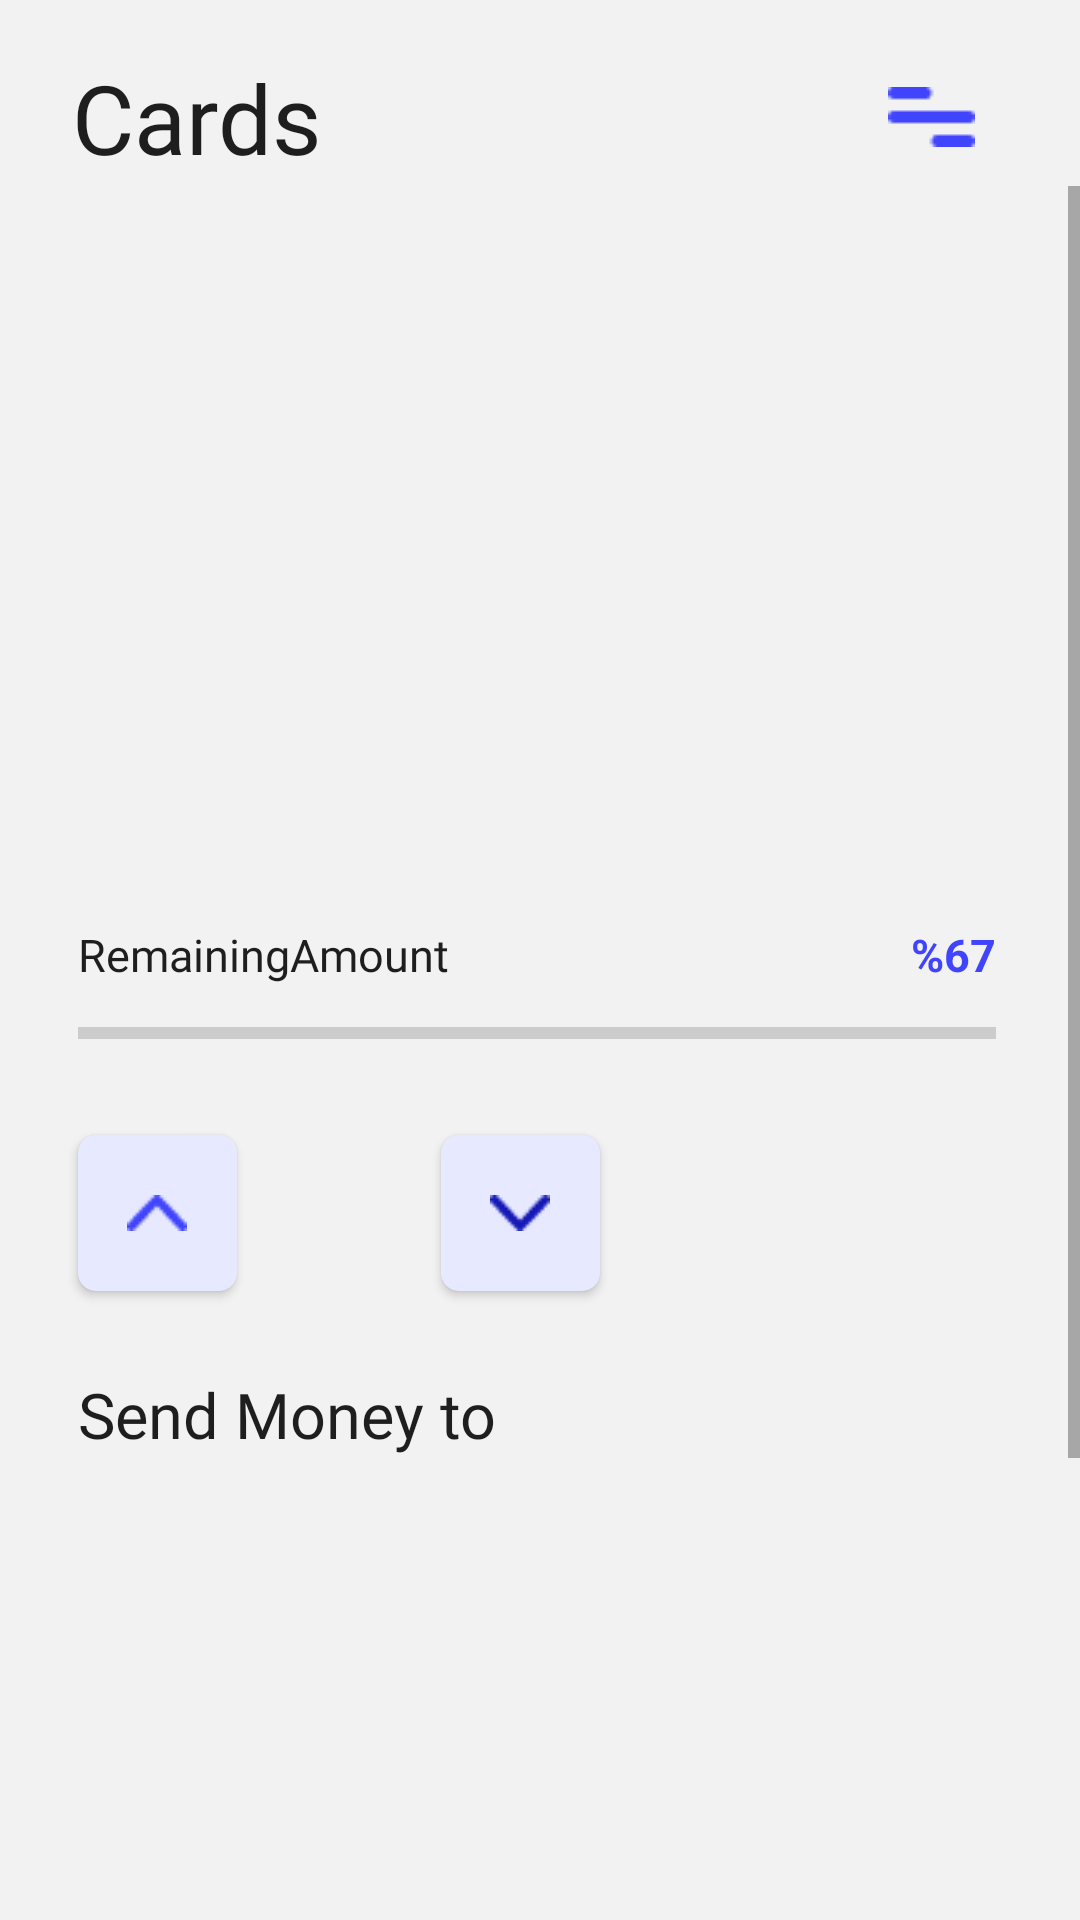

Screen size 1080w x 1920h. Icon name, then its center in pixels as [x,y]:
baland: [157,1213]
